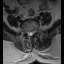CCS_normal: (29, 29, 31, 38)
LFS_normal: (33, 27, 35, 35)
LLS_normal: (31, 28, 33, 36)
RFS_normal: (25, 28, 27, 35)
RLS_normal: (27, 29, 29, 37)
